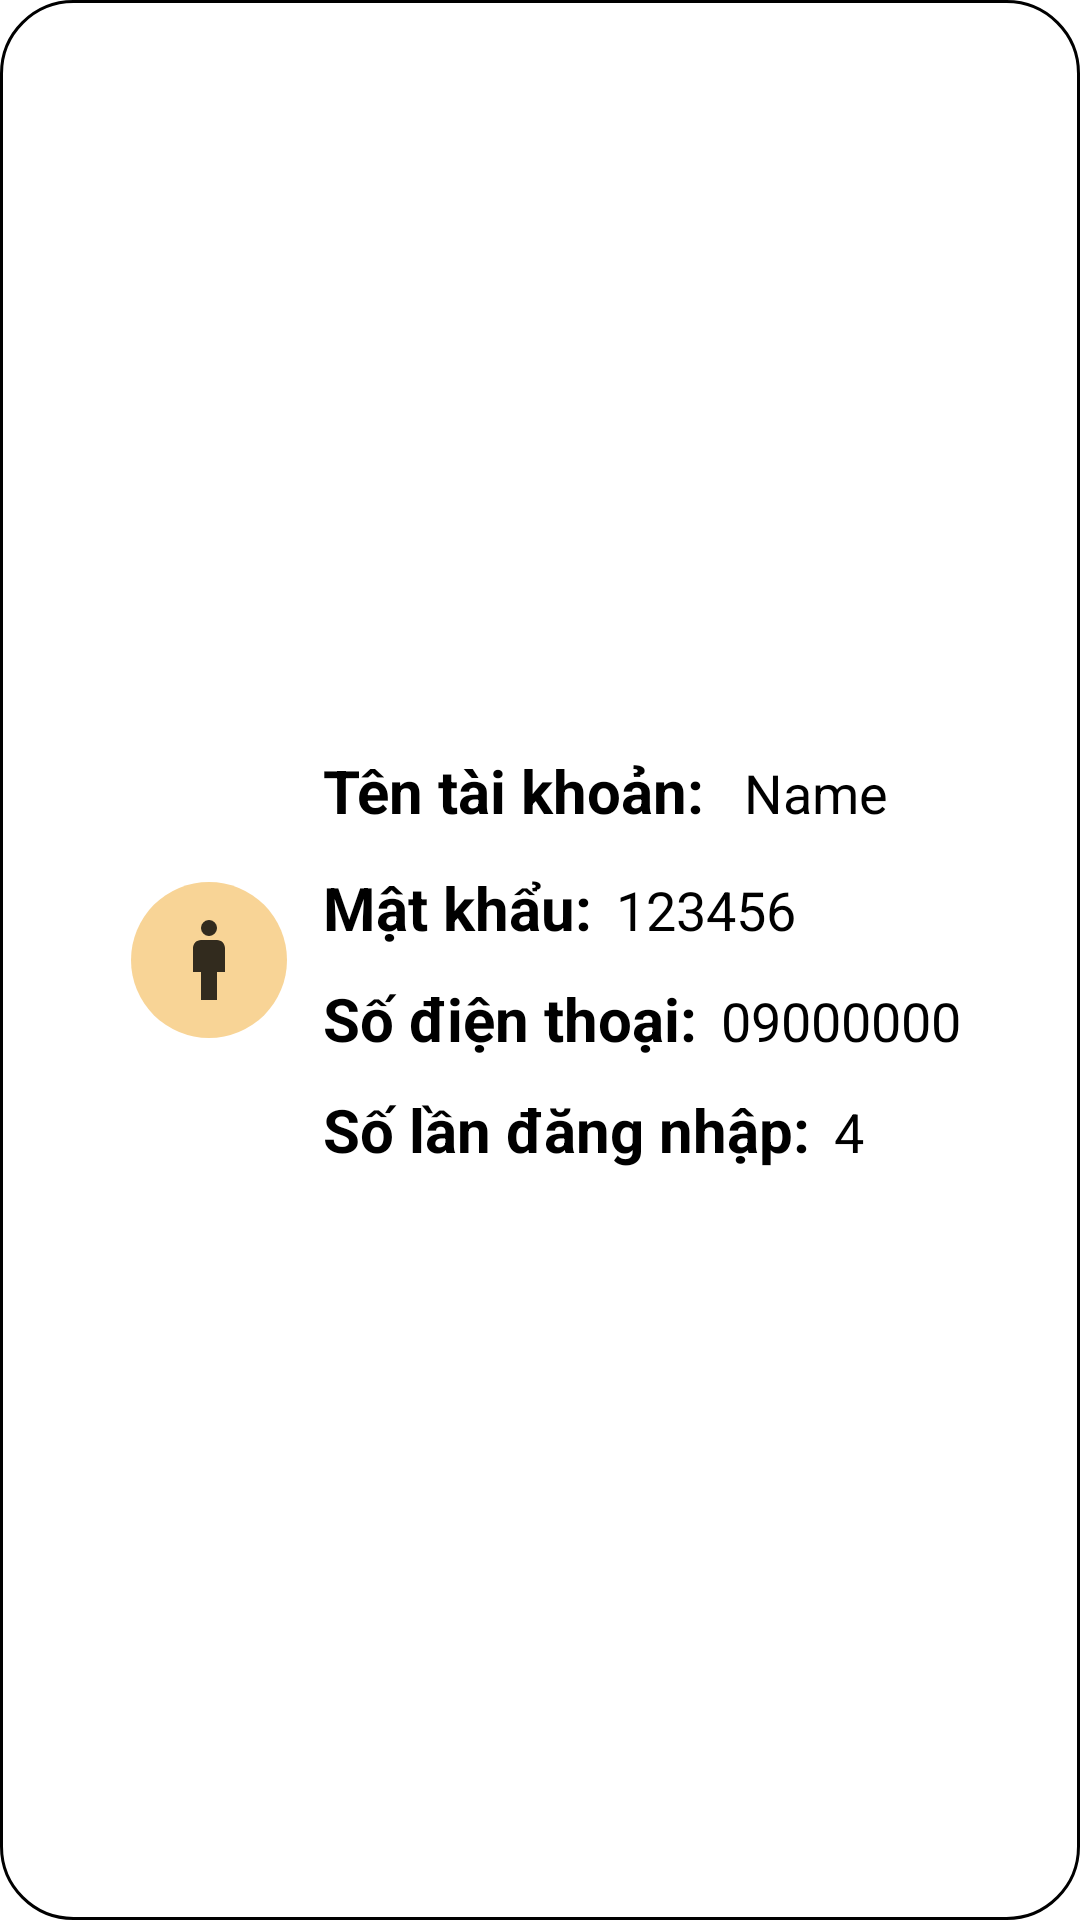

Screen size 1080px x 1920px. Icon name, then its center in pixels as [x,y]:
men: [209,960]
